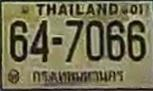0: (85, 19, 103, 60)
4: (30, 18, 48, 62)
6: (106, 19, 124, 60), (127, 19, 145, 60), (9, 20, 27, 61)
7: (65, 19, 83, 61)
BKK: (32, 66, 126, 87)
